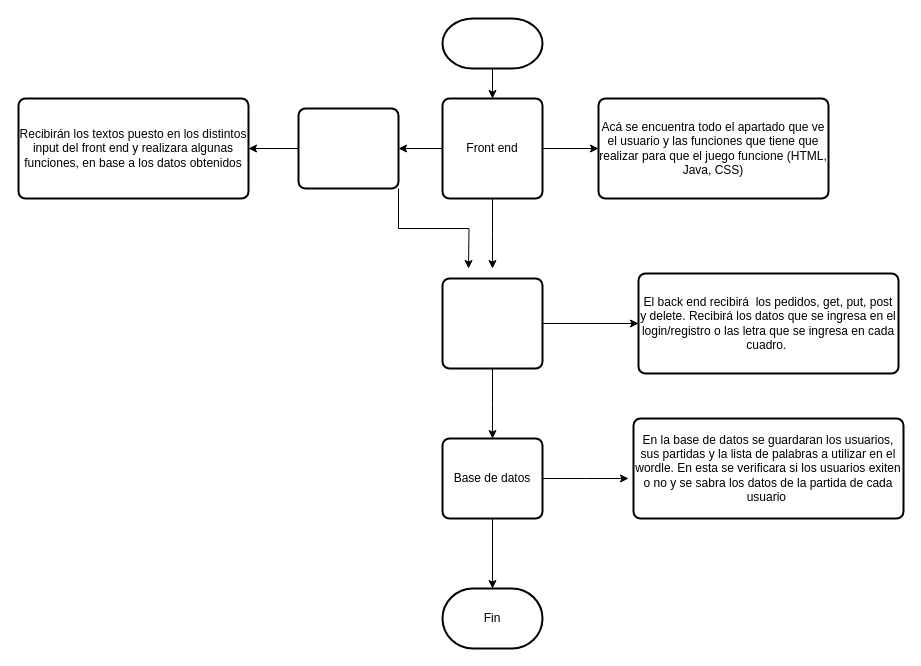
This 921x666 diagram has some shape labels left out. Here are the shapes that lost their labels. From the top down, the centre of each, then its label:
At [492,43]: "Inicio".
At [348,148]: "DOM".
At [492,323]: "back end".
